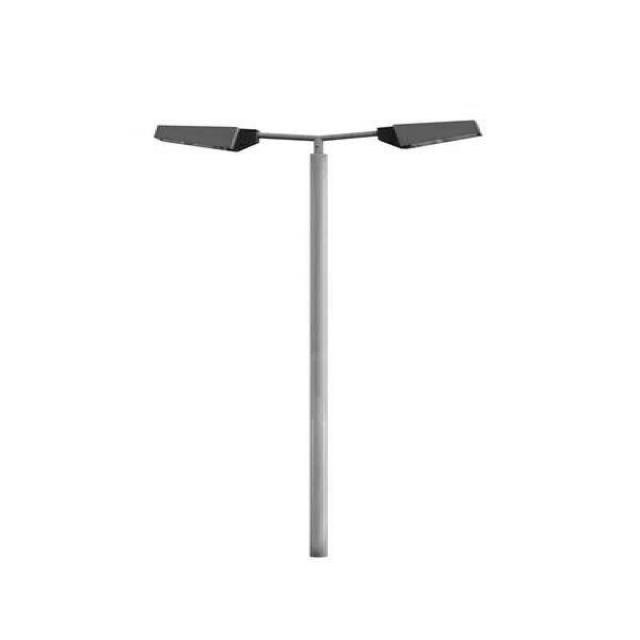Pole: (154, 121, 483, 558)
